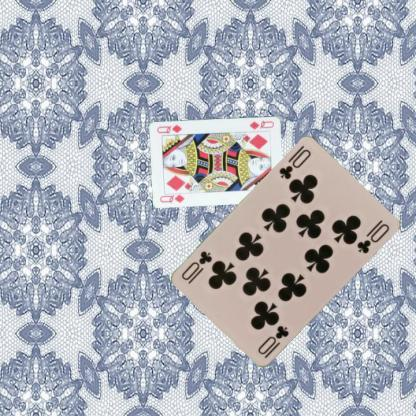10c: (276, 143, 312, 181), (254, 323, 290, 356)
Qd: (158, 189, 187, 204), (247, 118, 275, 130)
